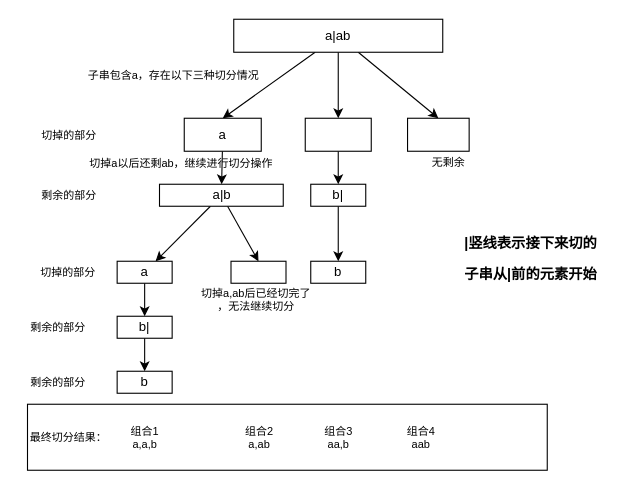
The diagram is 631 pixels wide and 490 high, and some of its shapes have lost their labels. Here are the shapes that lost their labels. From the top down, the centre of each, then its label:
pixel 337 134: aa
pixel 437 134: aab
pixel 258 271: ab
